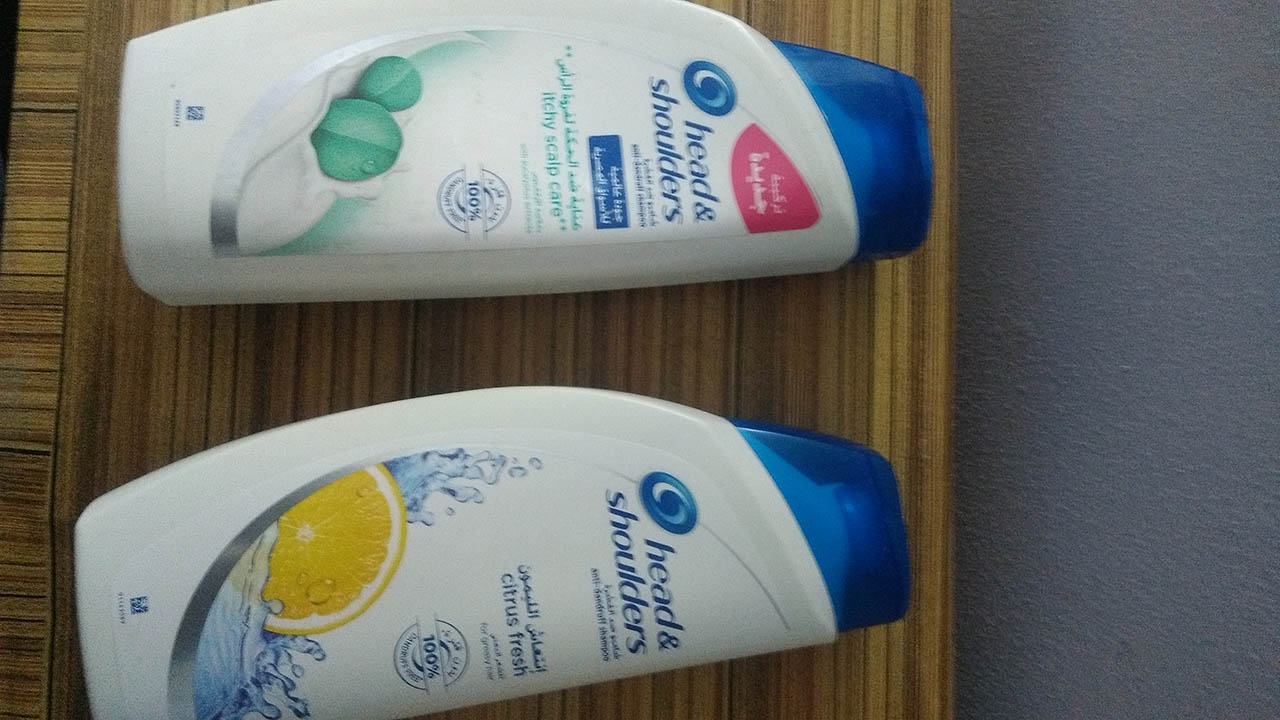shampoo-Lemon 3.5$: (59, 404, 903, 712)
shampoo-green 4.5$: (126, 1, 926, 315)
